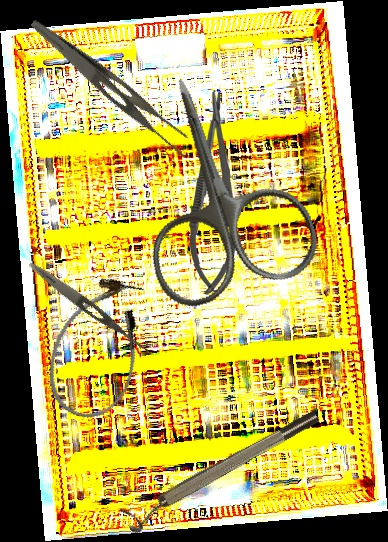Cannula: (33, 265, 163, 431)
Dressing Forceps: (16, 18, 202, 161), (25, 258, 157, 359)
Fixation Ring: (118, 406, 327, 536)
Iris Scissors: (103, 53, 326, 316)
Needle Holder: (186, 89, 243, 296)
